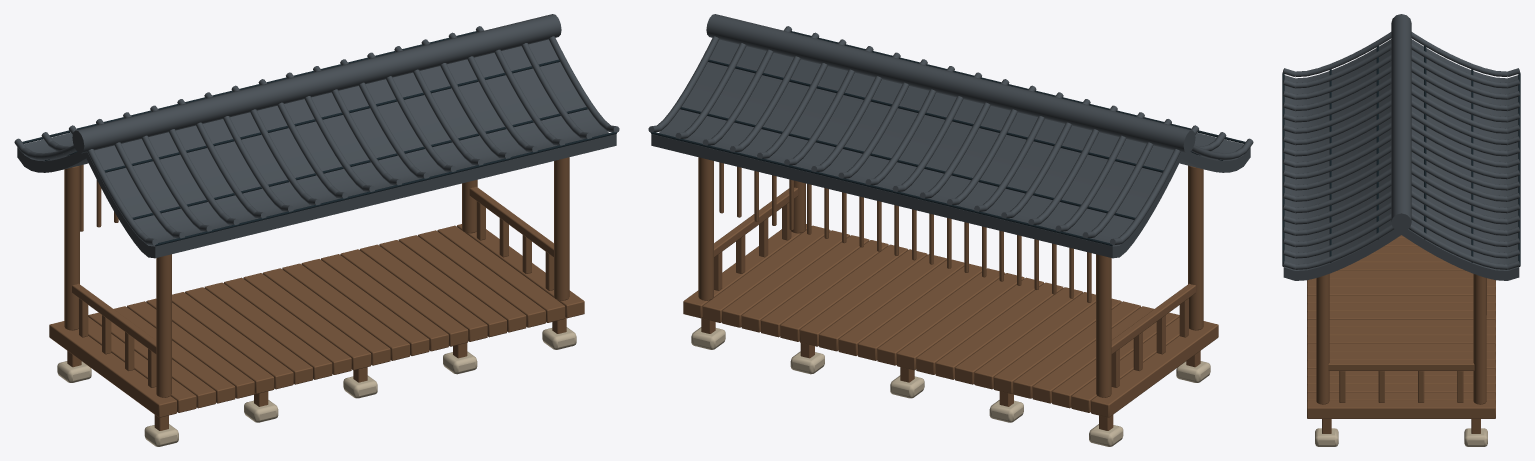
File: veranda.glb
3 views of the same model, side by side, from view 1: azimuth 30°, elevation 25°; view 2: azimuth 150°, elevation 25°; view 3: azimuth 270°, elevation 25° (orthographic). The views are drawn at different scales.
Visible parts, largest first — view 1: Detail.veranda.Tile, Detail.veranda.Wood, Detail.veranda.Dark, Detail.veranda.Stone; view 2: Detail.veranda.Tile, Detail.veranda.Wood, Detail.veranda.Dark, Detail.veranda.Stone; view 3: Detail.veranda.Tile, Detail.veranda.Wood, Detail.veranda.Dark, Detail.veranda.Stone.
Boxes of the visible parts, x1,y1,x2,y2 form: Detail.veranda.Tile: [14, 14, 619, 258]; Detail.veranda.Wood: [49, 157, 584, 430]; Detail.veranda.Dark: [22, 31, 616, 246]; Detail.veranda.Stone: [57, 327, 576, 446]; Detail.veranda.Tile: [648, 14, 1253, 258]; Detail.veranda.Wood: [683, 157, 1218, 430]; Detail.veranda.Dark: [651, 31, 1245, 246]; Detail.veranda.Stone: [691, 327, 1210, 446]; Detail.veranda.Tile: [1282, 14, 1520, 280]; Detail.veranda.Wood: [1307, 235, 1495, 433]; Detail.veranda.Dark: [1282, 46, 1520, 266]; Detail.veranda.Stone: [1315, 428, 1487, 446].
Bounding box in the file's own units: 6 × 3.46 × 3.03.
